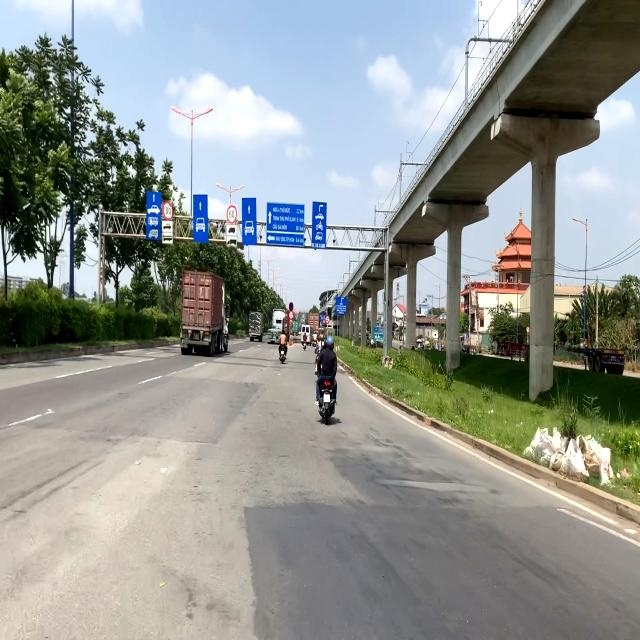bien_cam: (226, 204, 238, 224), (162, 200, 172, 221), (289, 302, 293, 311)
